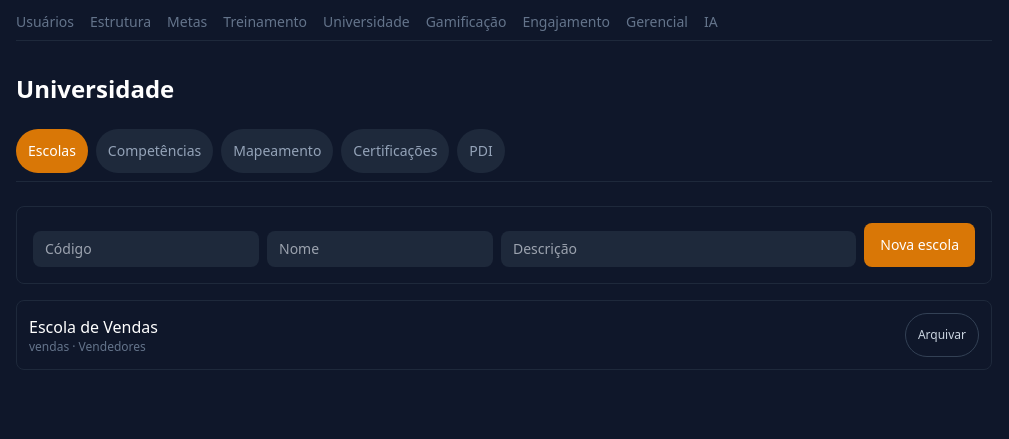
AdminUniversidade › certificação DRAFT sem requisitos mostra atalho pra requisito dos 13 Mandamentos, nunca o botão Publicar direto
This screenshot has width=1009, height=439.
Click the button "Certificações": (395, 151) [341, 129, 449, 173]
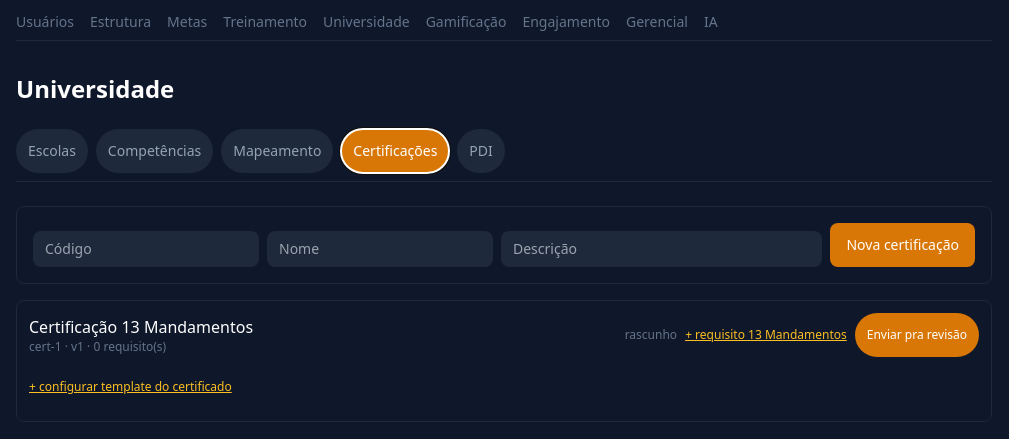
Result: the text "Certificação 13 Mandamentos" is shown at [29, 315, 253, 339]
Result: the button "+ requisito 13 Mandamentos" is shown at [685, 313, 847, 357]
Result: the button "Enviar pra revisão" is shown at [855, 313, 979, 357]
